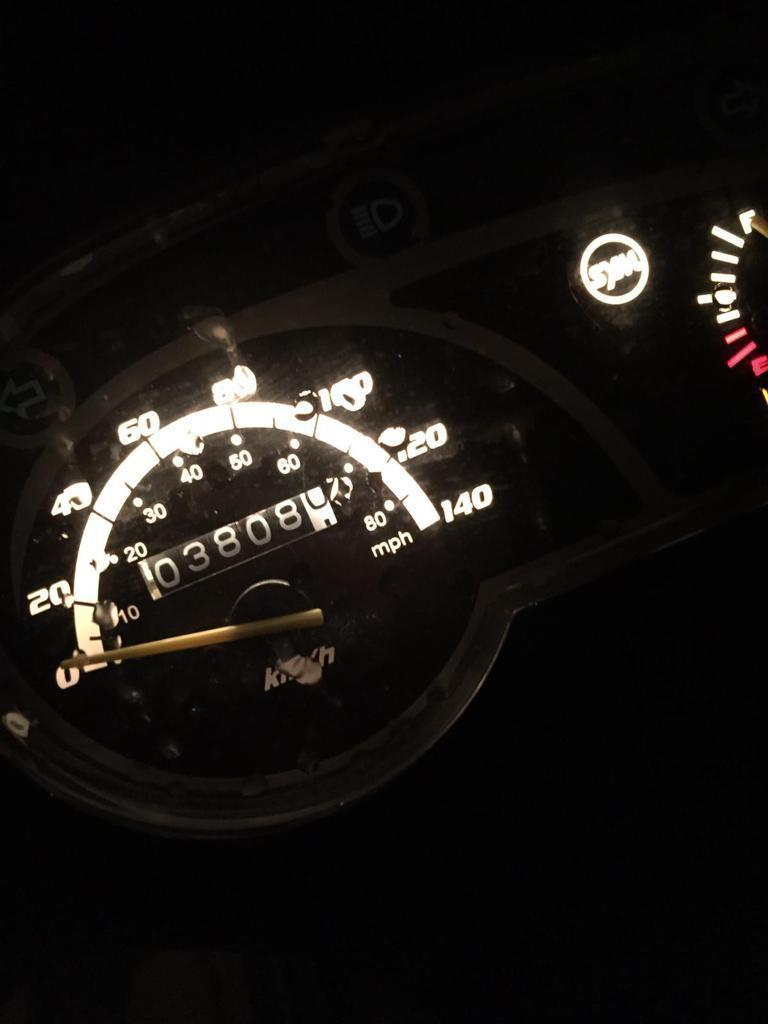0: (244, 514, 272, 546), (153, 556, 180, 589), (304, 483, 328, 509), (134, 540, 148, 558), (153, 502, 167, 519)
3: (182, 540, 210, 572), (142, 507, 156, 524)
8: (212, 526, 241, 557), (274, 499, 302, 531)
odometer: (134, 483, 339, 603)
